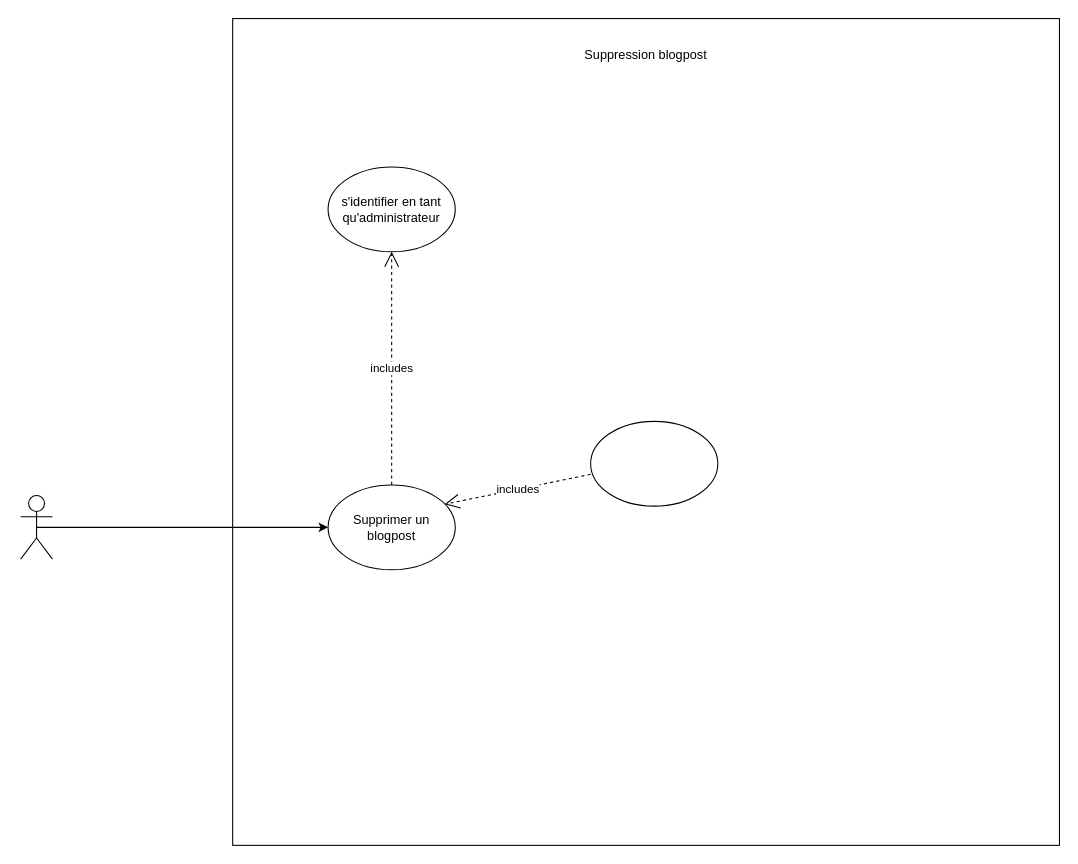
The diagram is 1078 pixels wide and 864 high, and some of its shapes have lost their labels. The shapes that lost their labels are listed below. From the top down, each one's centre as x and y in pixels, then its label:
At point (654, 463): "Supprimer blogpost".
At point (36, 526): "Auteur".
